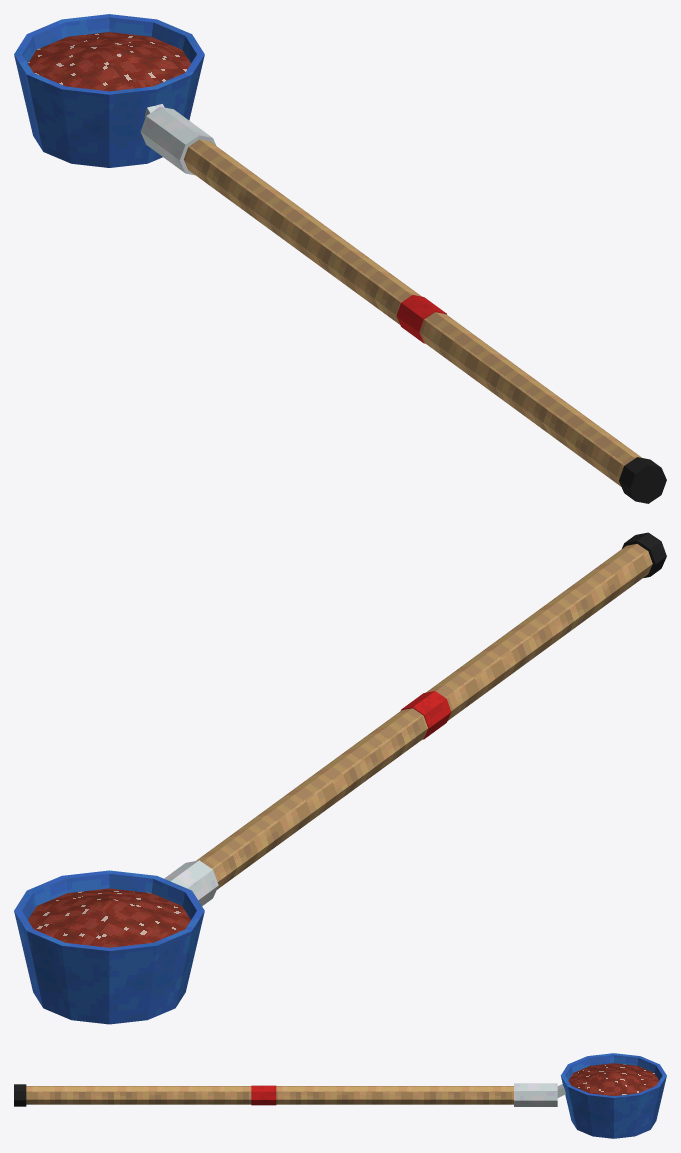
Rendered from scoop.glb.
The picture shows the model from 3 angles, top to bottom: view 1: azimuth 30°, elevation 25°; view 2: azimuth 150°, elevation 25°; view 3: azimuth 270°, elevation 25°; orthographic projection. The views are drawn at different scales.
Parts seen in each view (by area): view 1: scoop, Chum; view 2: scoop, Chum; view 3: scoop, Chum.
Part boxes in pixels (left/top/right/bottom): scoop: left=14, top=14, right=666, bottom=503; Chum: left=28, top=32, right=190, bottom=91; scoop: left=14, top=532, right=666, bottom=1024; Chum: left=28, top=888, right=190, bottom=947; scoop: left=14, top=1053, right=666, bottom=1138; Chum: left=568, top=1063, right=659, bottom=1095.
Size of the model in its own units: 0.17 by 0.087 by 1.04.
6 materials, 6 textured.
